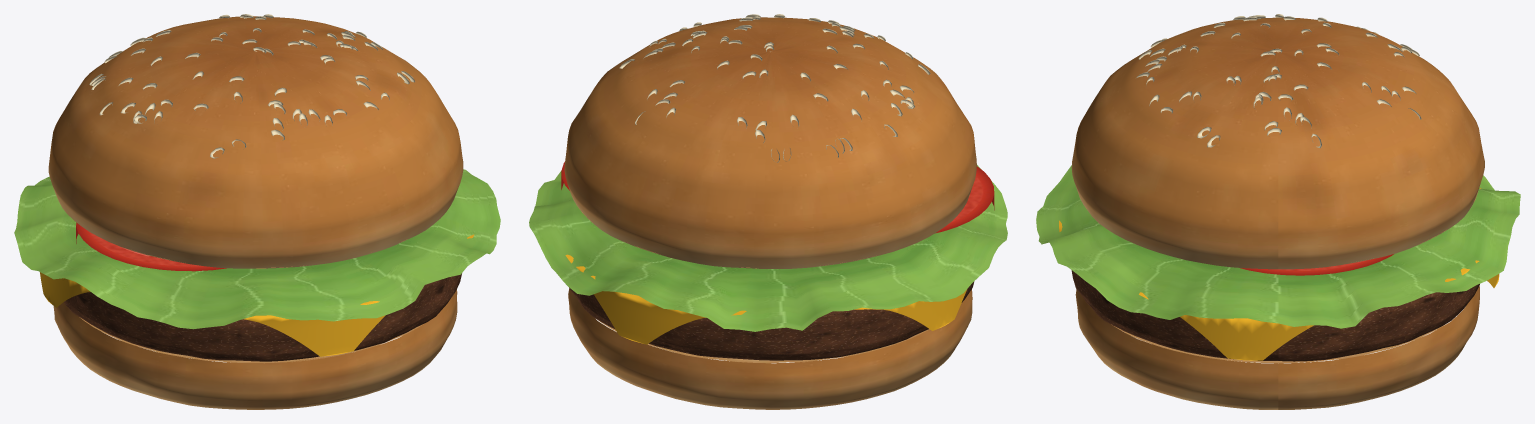
The model's file is burger-x-salada.glb.
The picture shows the model from 3 angles, left to right: view 1: azimuth 30°, elevation 25°; view 2: azimuth 150°, elevation 25°; view 3: azimuth 270°, elevation 25°; orthographic projection.
Visible parts, largest first — view 1: burger-x-salada; view 2: burger-x-salada; view 3: burger-x-salada.
Part boxes in pixels (left/top/right/bottom): burger-x-salada: left=14, top=14, right=500, bottom=409; burger-x-salada: left=529, top=14, right=1007, bottom=409; burger-x-salada: left=1036, top=14, right=1520, bottom=409.
Size of the model in its own units: 0.133 by 0.0874 by 0.1327.
8 materials, 5 textured.
